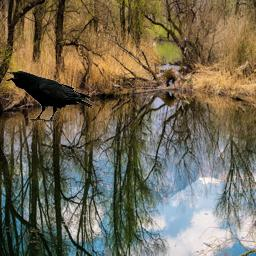Crow: (6, 71, 94, 122)
